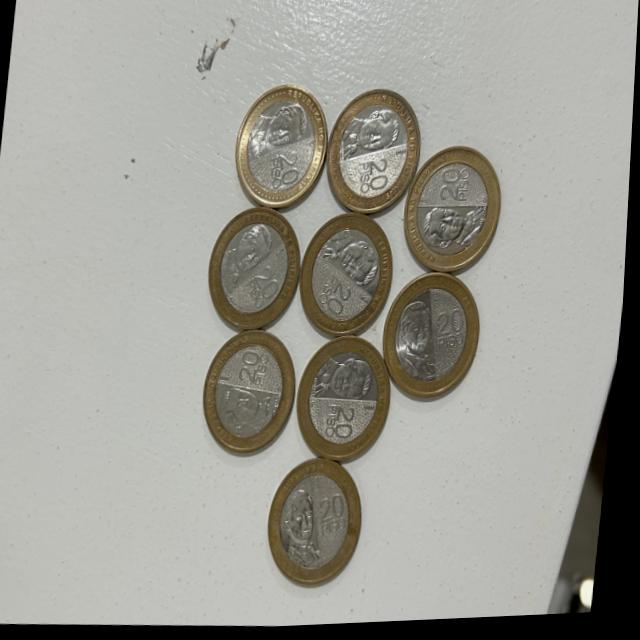20_New_Front: (319, 479, 367, 547), (324, 390, 374, 450), (354, 152, 402, 203), (434, 305, 475, 363), (265, 154, 312, 203), (240, 347, 284, 398), (319, 270, 361, 322), (250, 260, 287, 313), (435, 167, 481, 206)
